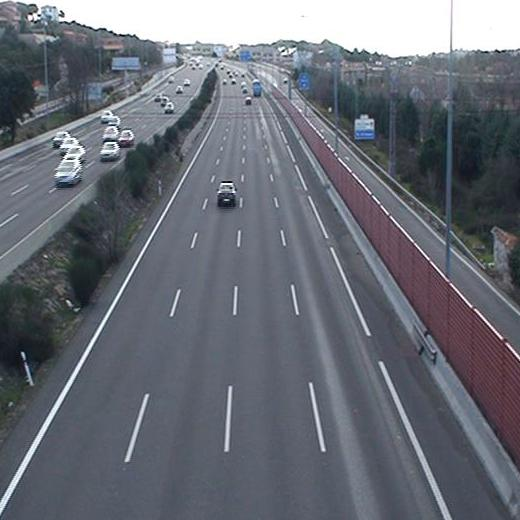bus: (251, 79, 263, 99)
car: (213, 179, 240, 212), (242, 95, 257, 107)
